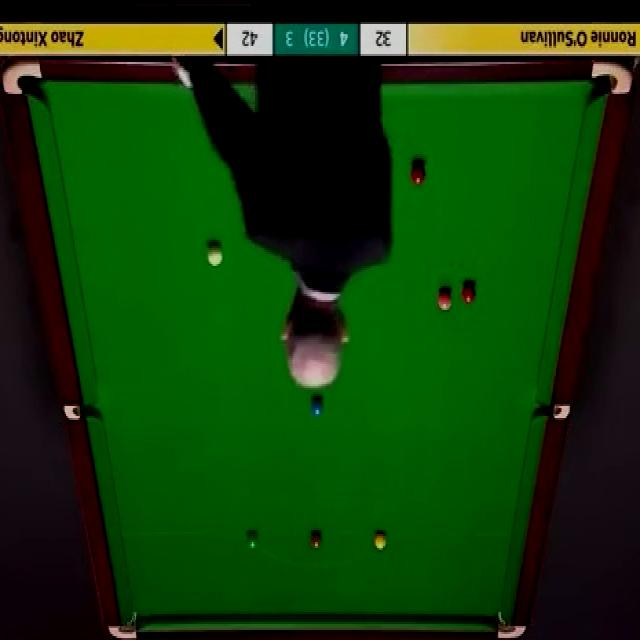pocket: (0, 58, 44, 97), (589, 58, 633, 97), (495, 606, 528, 640), (110, 608, 141, 640), (64, 400, 101, 422), (535, 405, 573, 420)
